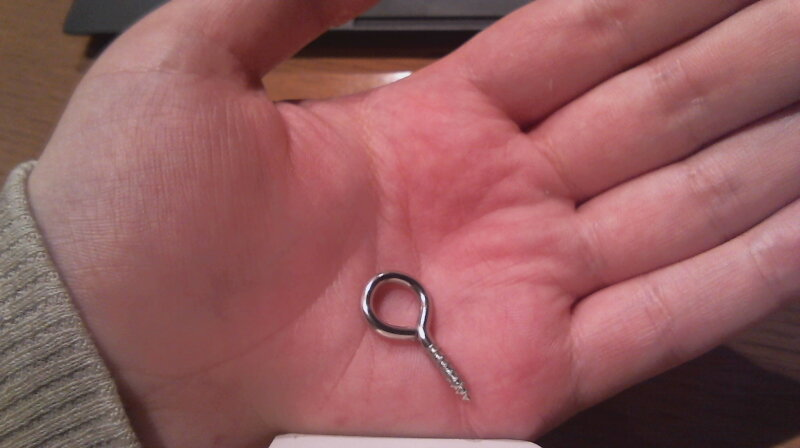O001: (357, 269, 474, 406)
